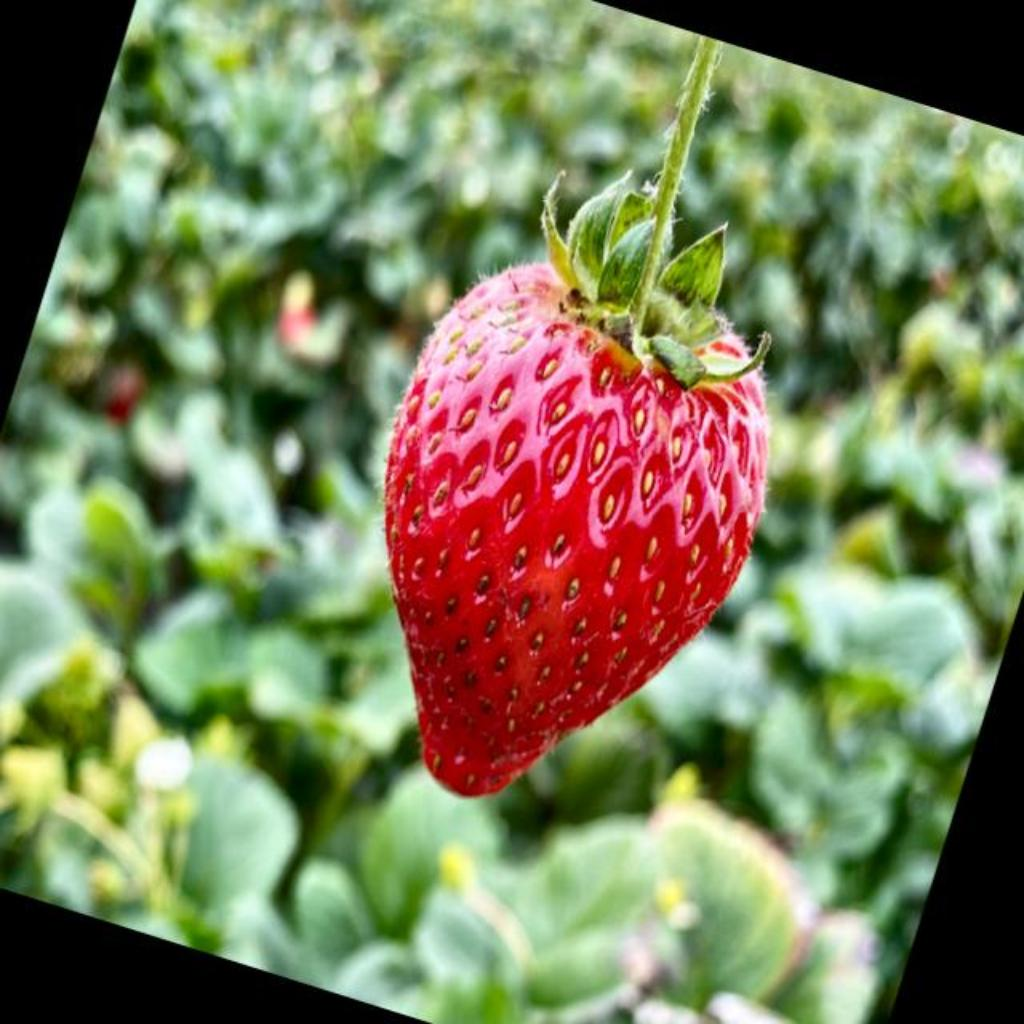strawberry: (386, 40, 768, 796)
